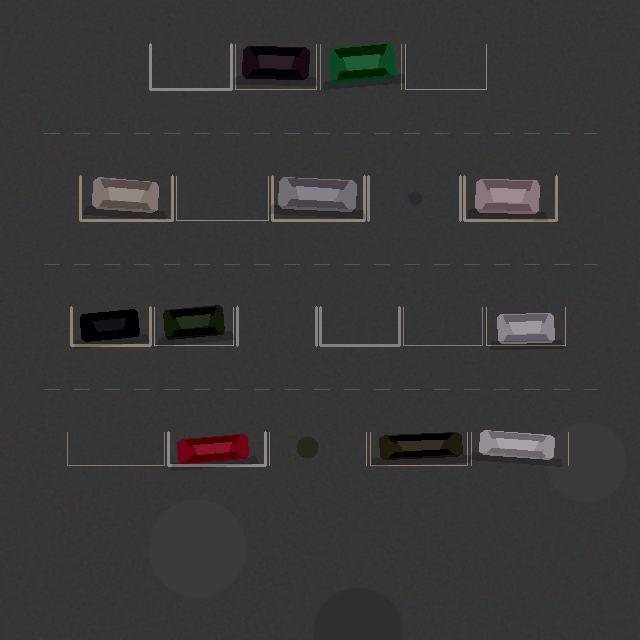space-empty: (176, 176, 268, 220), (368, 176, 460, 220), (150, 44, 231, 89), (405, 44, 486, 89), (67, 432, 164, 465), (269, 432, 366, 465), (237, 307, 316, 345), (320, 307, 399, 345), (403, 307, 482, 345)
space-occupied: (80, 176, 172, 220), (272, 176, 364, 220), (464, 176, 556, 220), (235, 44, 316, 89), (320, 44, 401, 89), (168, 432, 265, 465), (370, 432, 467, 465), (471, 432, 568, 465), (71, 307, 150, 345), (154, 307, 233, 345), (486, 307, 565, 345)
